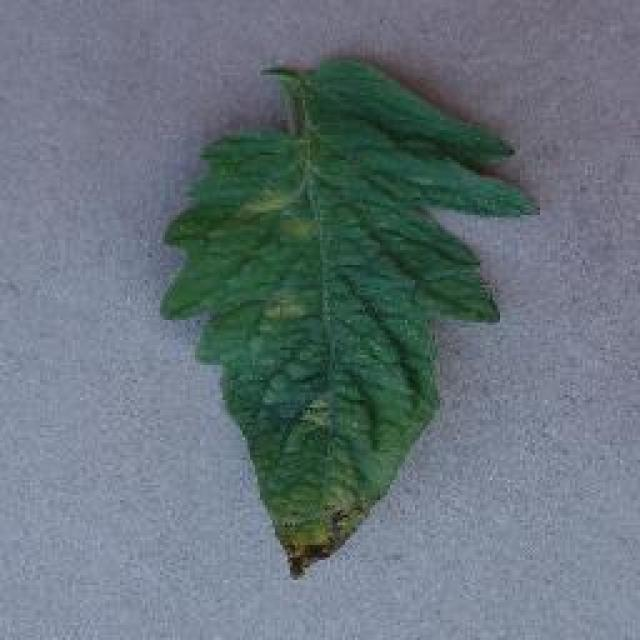Tomato___Leaf_Mold: (160, 58, 538, 582)
